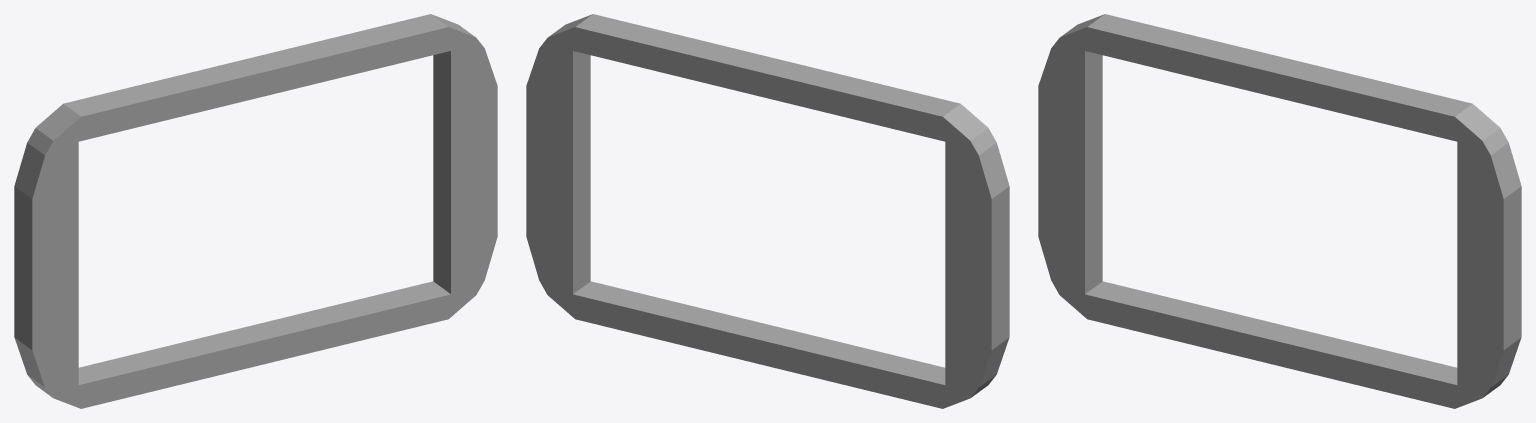
3 views of the same model, side by side, from view 1: azimuth 30°, elevation 25°; view 2: azimuth 150°, elevation 25°; view 3: azimuth 330°, elevation 25° (orthographic).
Visible parts, largest first — view 1: 立方体; view 2: 立方体; view 3: 立方体.
Part boxes in pixels (x1,y1,x2,y2): 立方体: (14, 14, 497, 408); 立方体: (526, 14, 1009, 408); 立方体: (1038, 14, 1521, 408).
Size of the model in its own units: 37.5 by 22.5 by 2.5.
